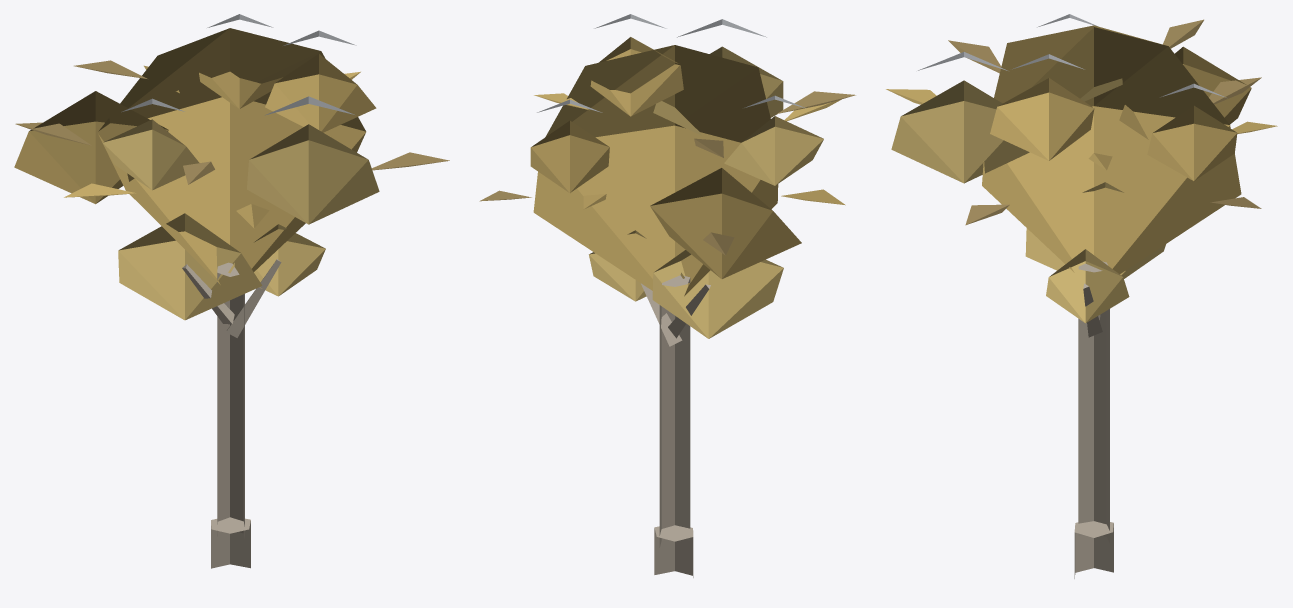
File: shu.chuizhi__autumn.glb
3 renders of one model, left to right at view 1: azimuth 30°, elevation 25°; view 2: azimuth 150°, elevation 25°; view 3: azimuth 270°, elevation 25°, orthographic. The views are drawn at different scales.
Parts seen in each view (by area): view 1: shu.chuizhi__autumn; view 2: shu.chuizhi__autumn; view 3: shu.chuizhi__autumn.
Part boxes in pixels (x1=…): shu.chuizhi__autumn: x1=14, y1=14, x2=449, y2=568; shu.chuizhi__autumn: x1=479, y1=14, x2=855, y2=577; shu.chuizhi__autumn: x1=886, y1=14, x2=1277, y2=578.
Size of the model in its own units: 6.6 by 10.36 by 6.62.
